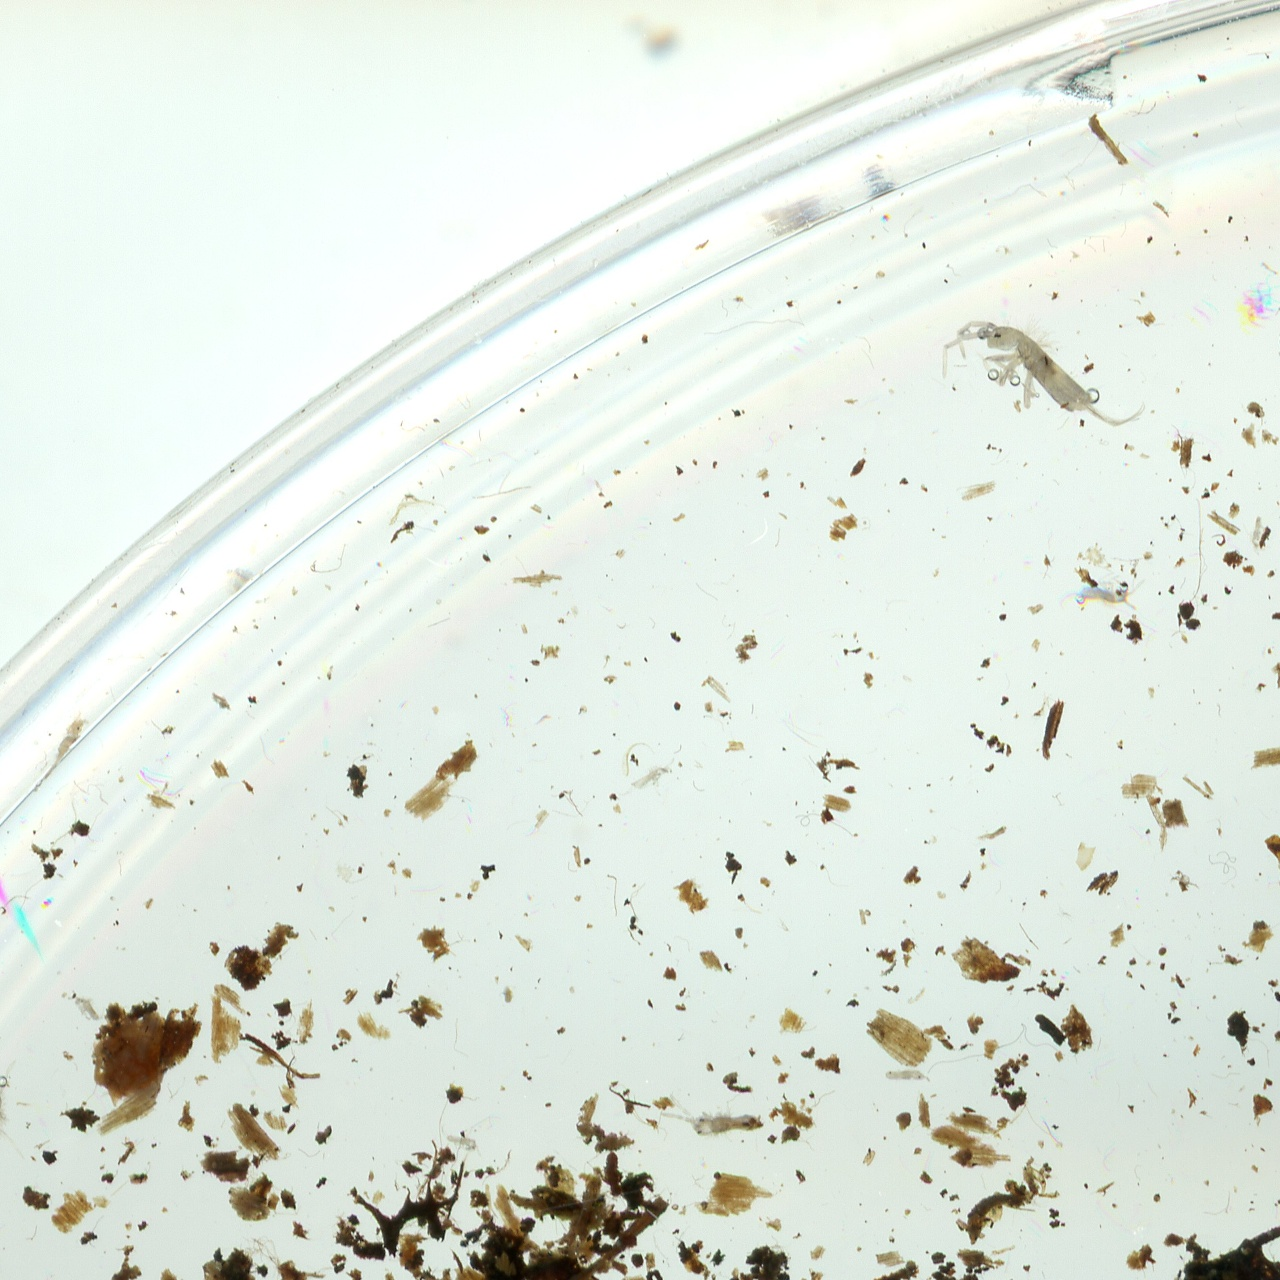arthropod: (921, 276, 1160, 494), (36, 705, 97, 781), (611, 752, 689, 810), (1056, 578, 1149, 616), (0, 1055, 29, 1171), (657, 1110, 765, 1135), (67, 988, 106, 1023), (1079, 539, 1113, 570), (885, 1066, 933, 1086), (445, 1133, 484, 1153), (1250, 513, 1268, 548)
